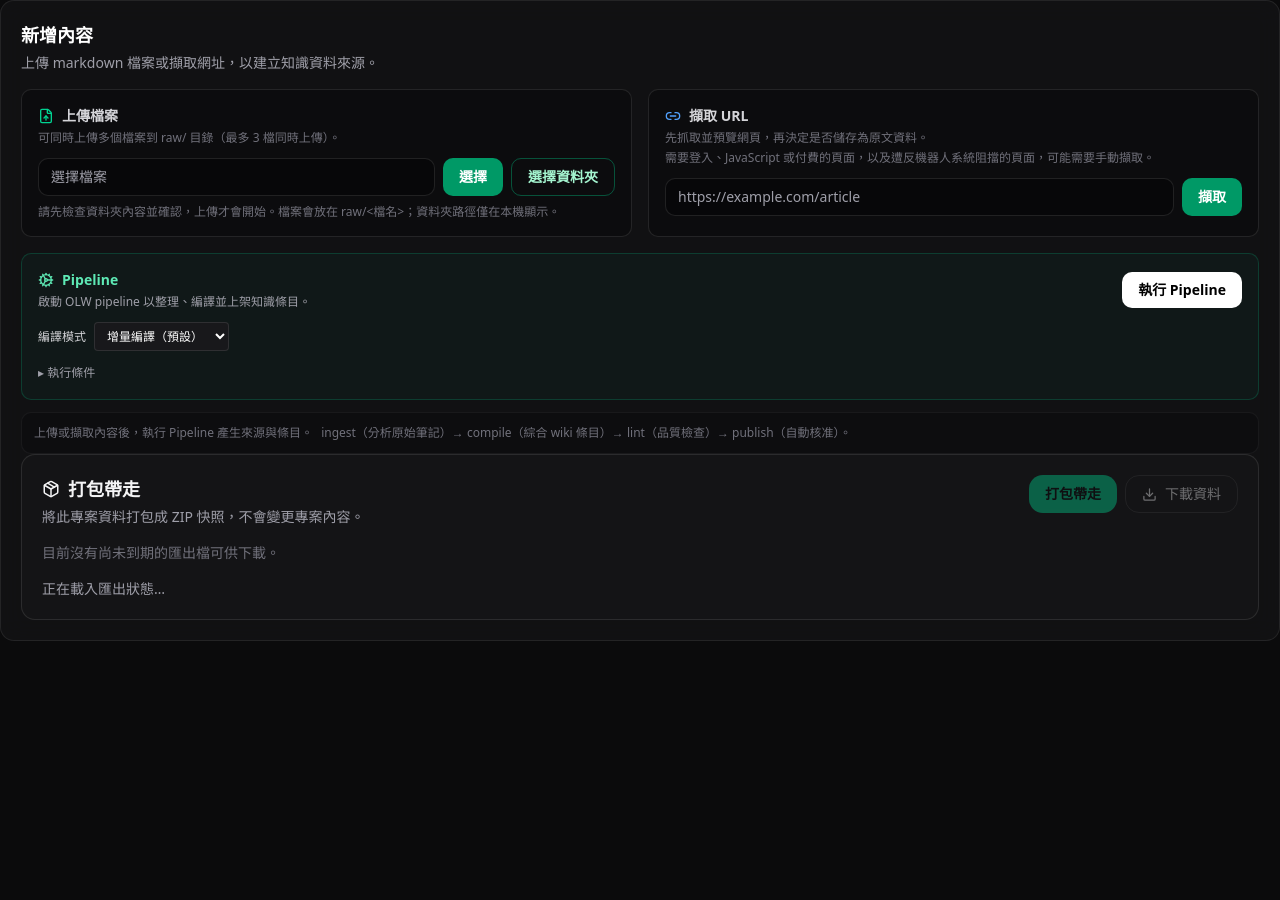
it: can start a second execution after terminal scoped polling
Select "全面重編譯" in the dropdown with test id "pipeline-compile-mode" at (162, 336), box [94, 322, 229, 351]
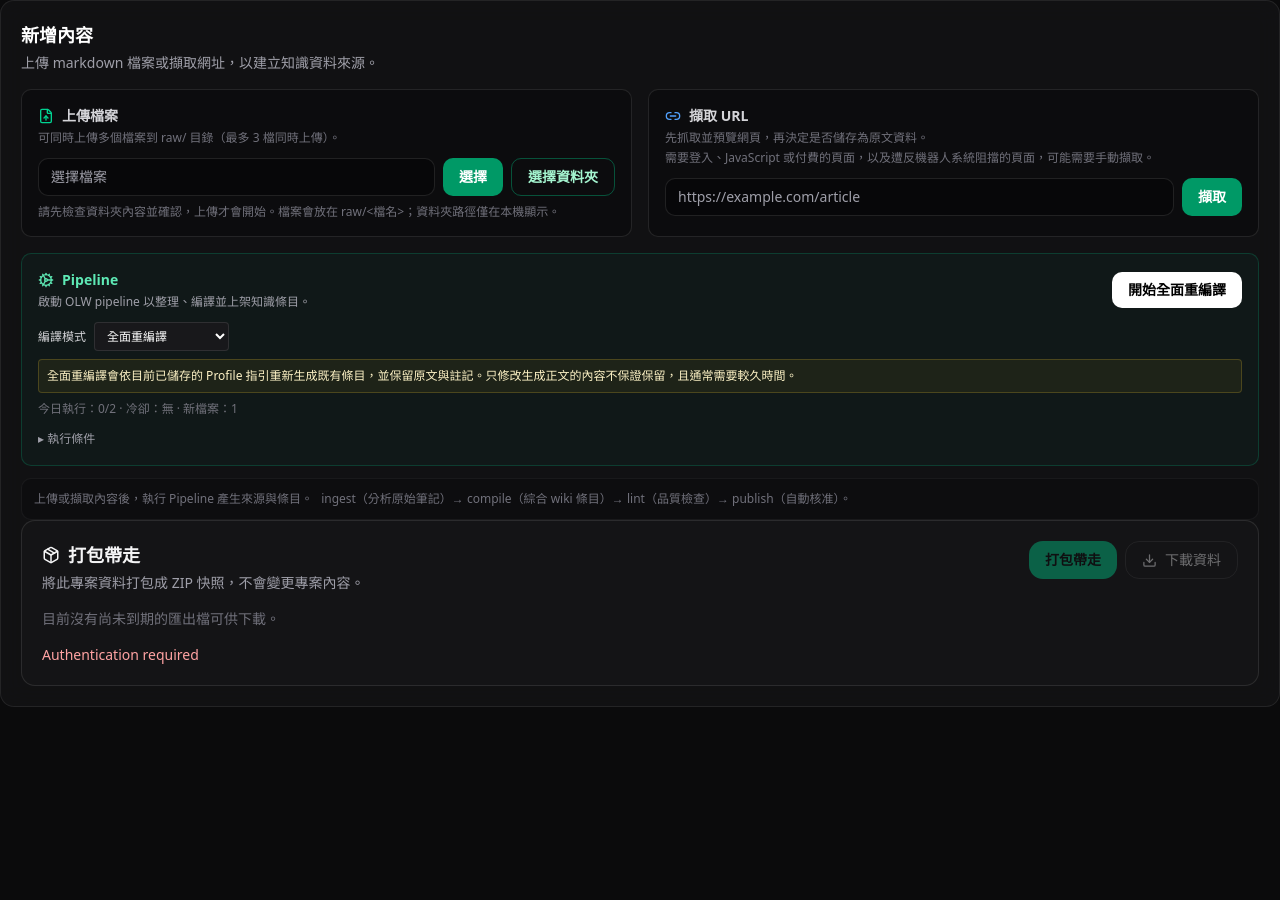
Click the button "開始全面重編譯" at (1177, 290), box [1112, 272, 1242, 308]
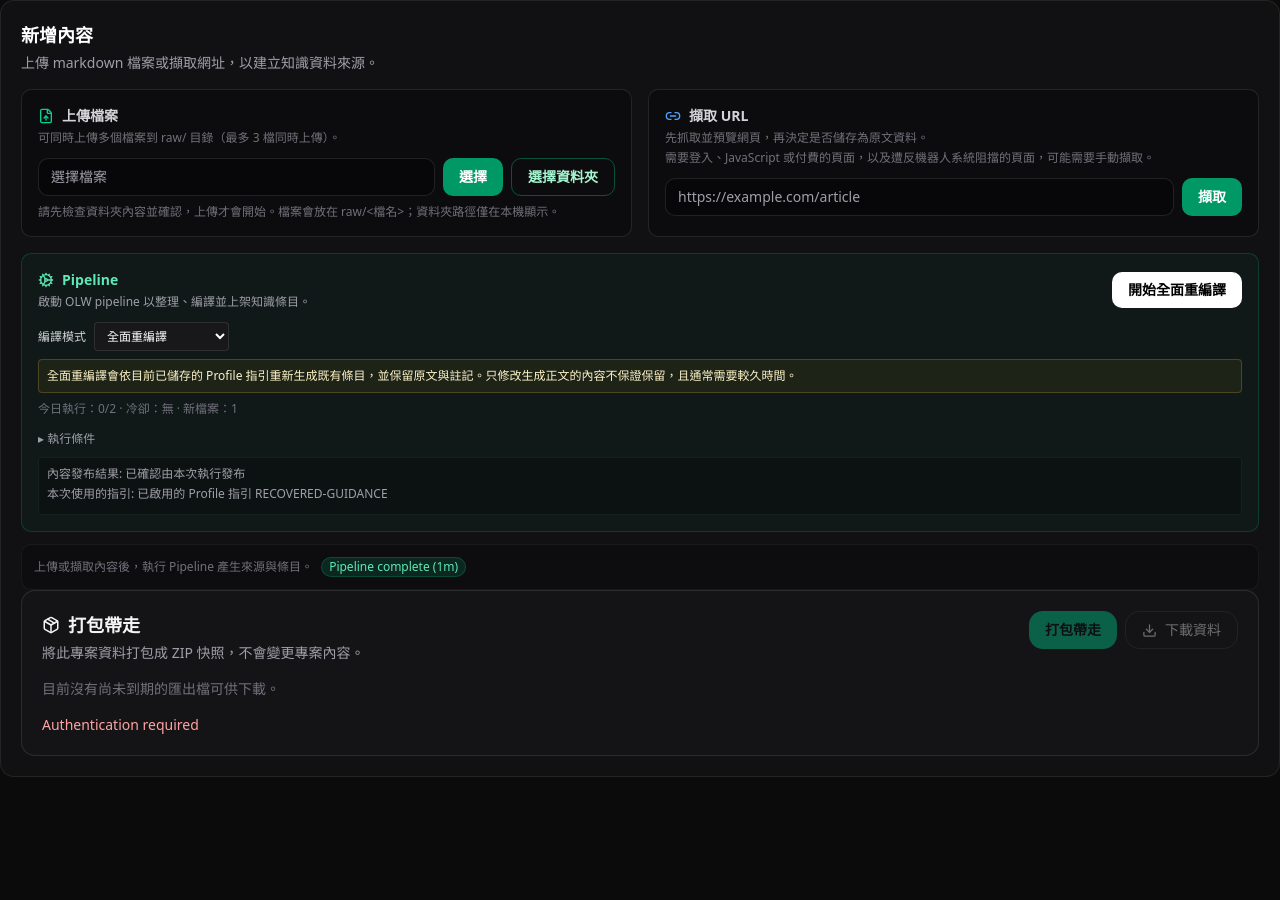
expect the text "Pipeline complete (1m)" is shown: met, box [321, 557, 466, 577]
Select "全面重編譯" in the dropdown with test id "pipeline-compile-mode" at (162, 336), box [94, 322, 229, 351]
Click the button "開始全面重編譯" at (1177, 290), box [1112, 272, 1242, 308]
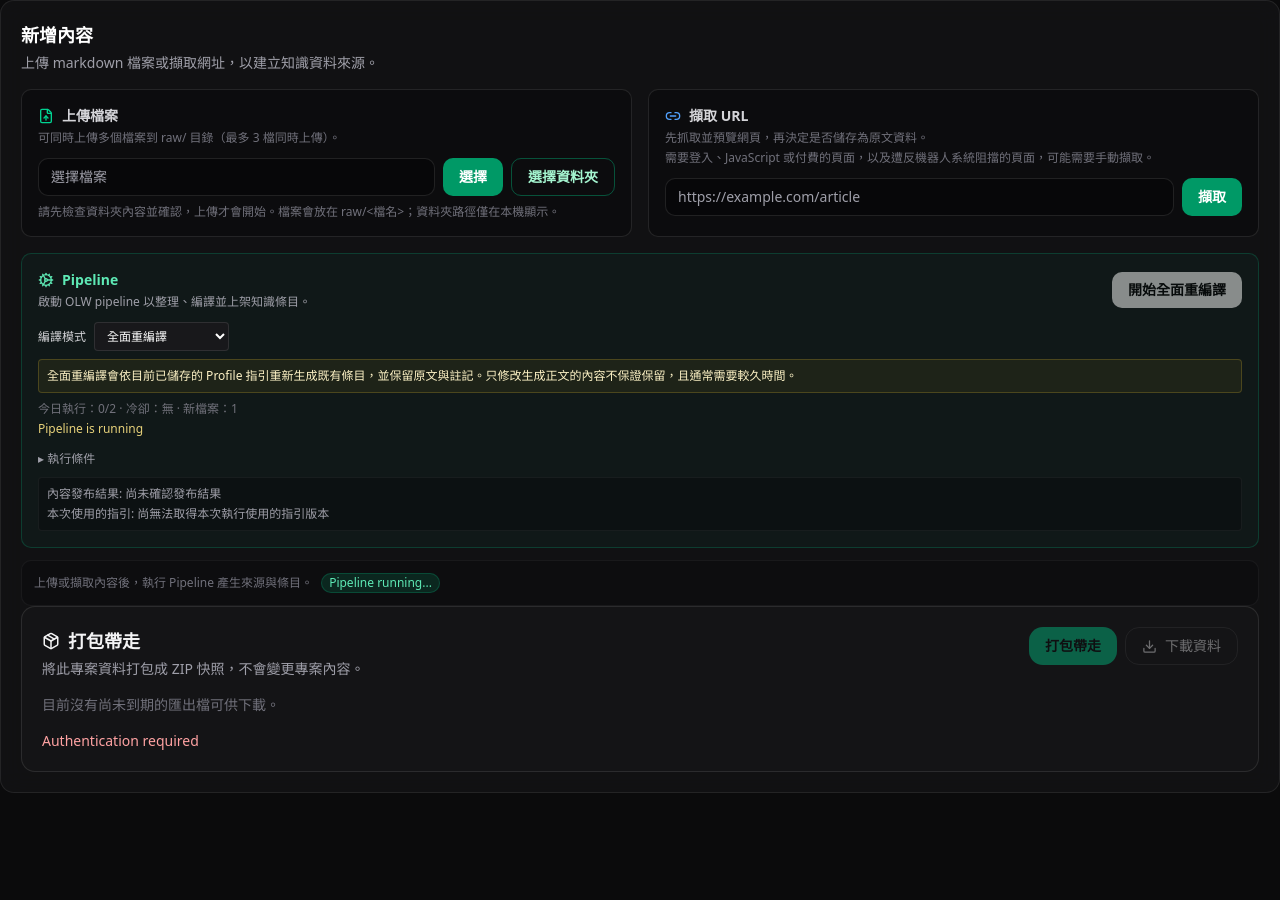
expect the text "Pipeline running..." is shown: met, box [321, 573, 440, 593]
